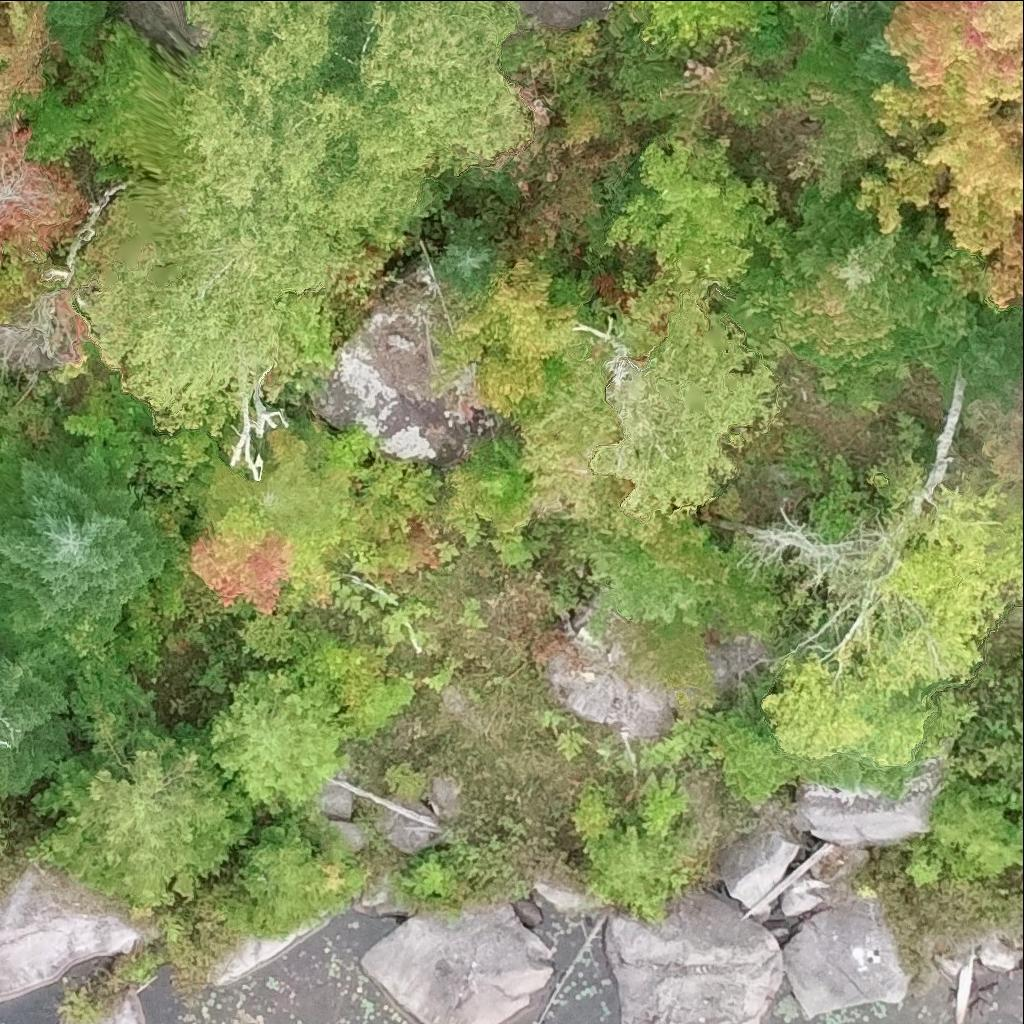crown: (760, 485, 1023, 765), (76, 182, 361, 436), (26, 616, 253, 909), (273, 0, 523, 243), (178, 0, 378, 232), (0, 434, 166, 687), (591, 297, 777, 520), (856, 99, 1023, 308), (567, 471, 728, 621), (435, 260, 582, 415), (870, 0, 1023, 147), (212, 668, 356, 812), (507, 354, 627, 524), (229, 794, 365, 936), (576, 768, 688, 923), (190, 501, 333, 614), (795, 189, 932, 296), (901, 779, 1023, 886), (439, 425, 549, 530), (798, 83, 895, 200), (659, 37, 783, 128), (0, 654, 76, 796), (701, 709, 799, 810), (614, 0, 778, 47), (0, 0, 53, 118), (440, 213, 498, 294), (970, 401, 1023, 479), (368, 530, 437, 586), (0, 830, 4, 853), (0, 739, 8, 746)
